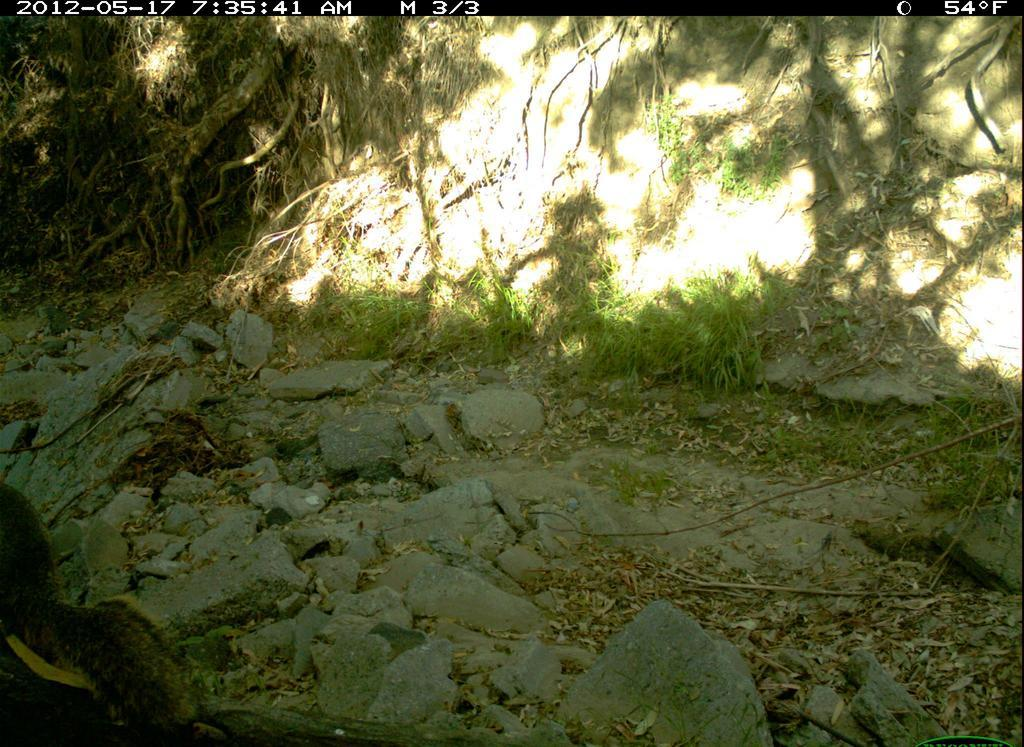squirrel: (3, 477, 199, 742)
